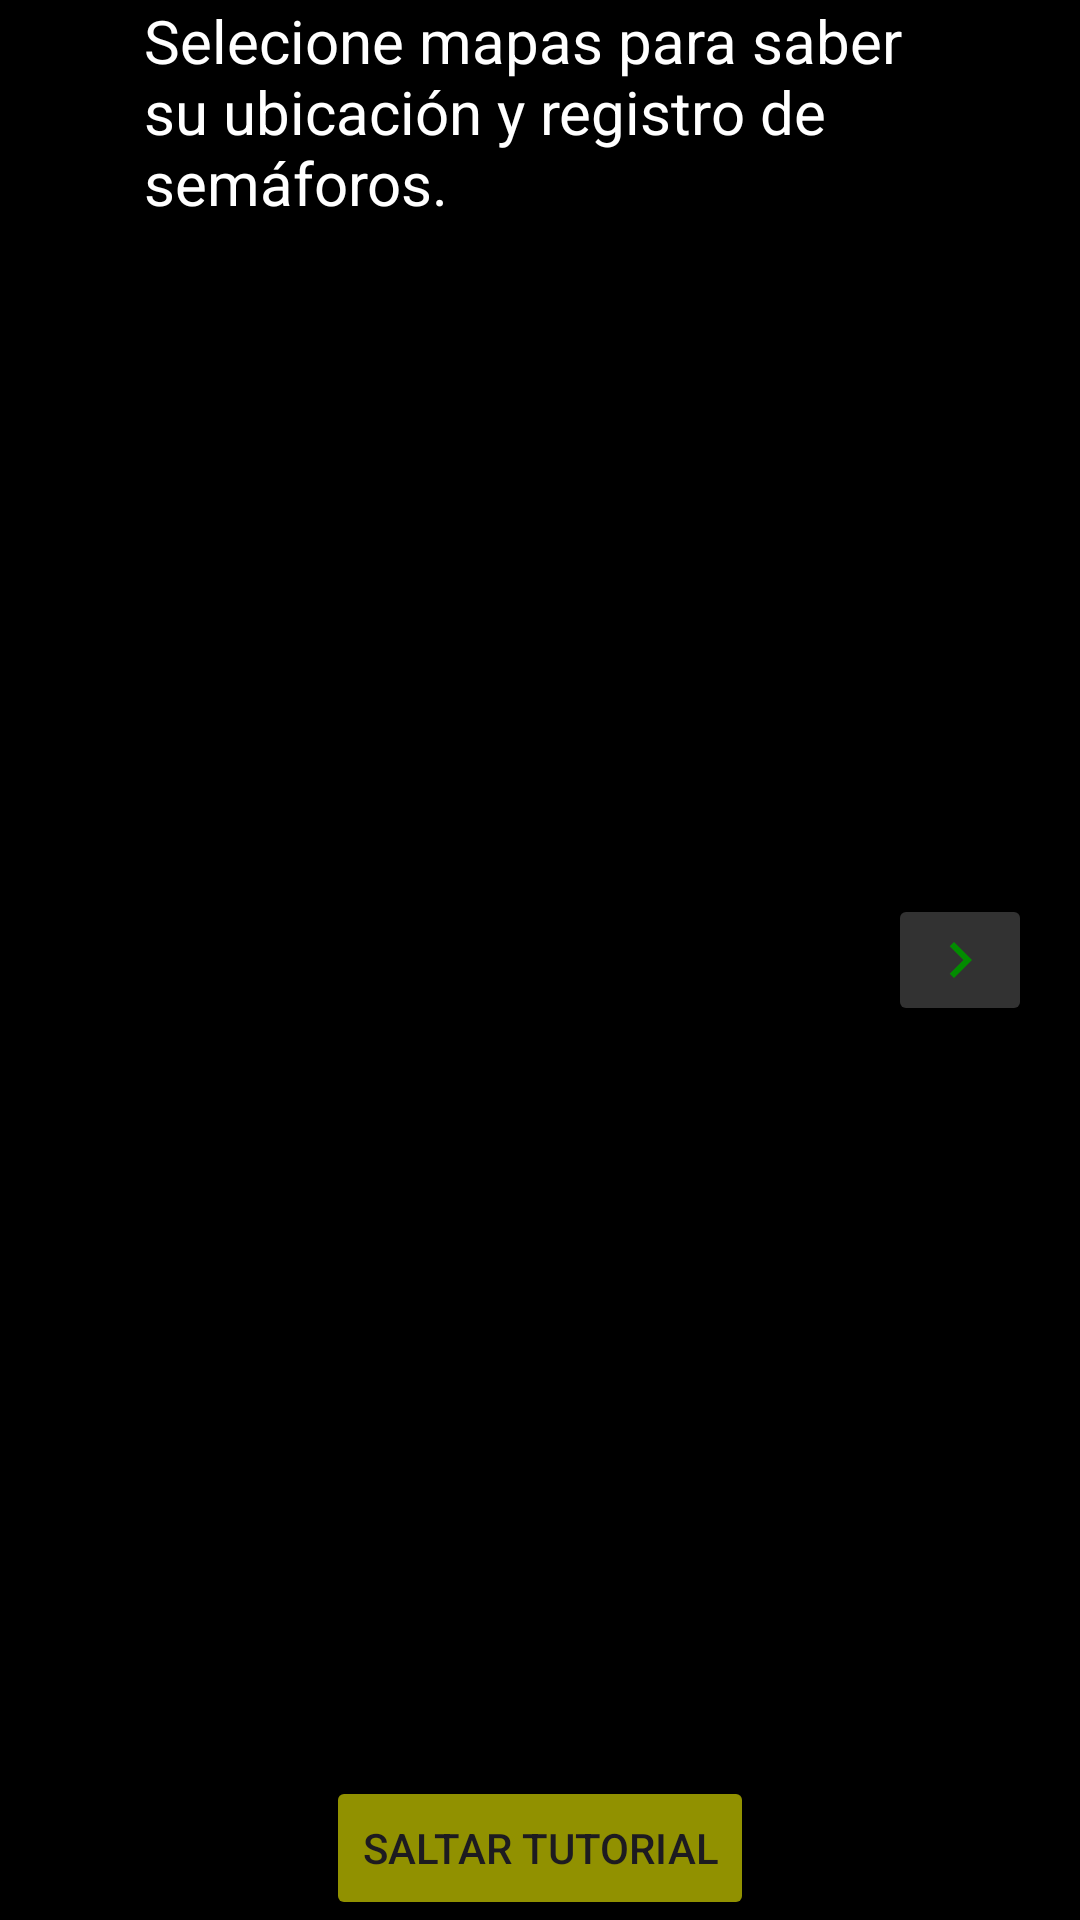

Where icons sit on this 1080 x 1920 app screen, as rect(x1, y1, x2, y2):
Siguiente: rect(900, 912, 1020, 1008)
